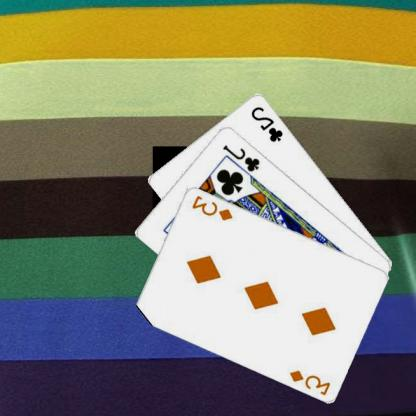2C: (250, 103, 286, 143)
3D: (191, 192, 236, 222), (288, 366, 333, 396)
JC: (221, 141, 264, 173)
